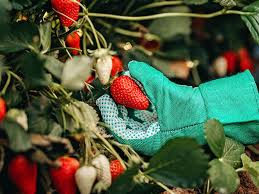ripe: (108, 71, 154, 113), (48, 150, 80, 192), (9, 151, 38, 191), (50, 9, 86, 26), (65, 30, 85, 56), (106, 156, 125, 180), (106, 53, 122, 81)
unripe: (69, 164, 99, 190), (91, 151, 111, 189), (93, 52, 109, 87)
